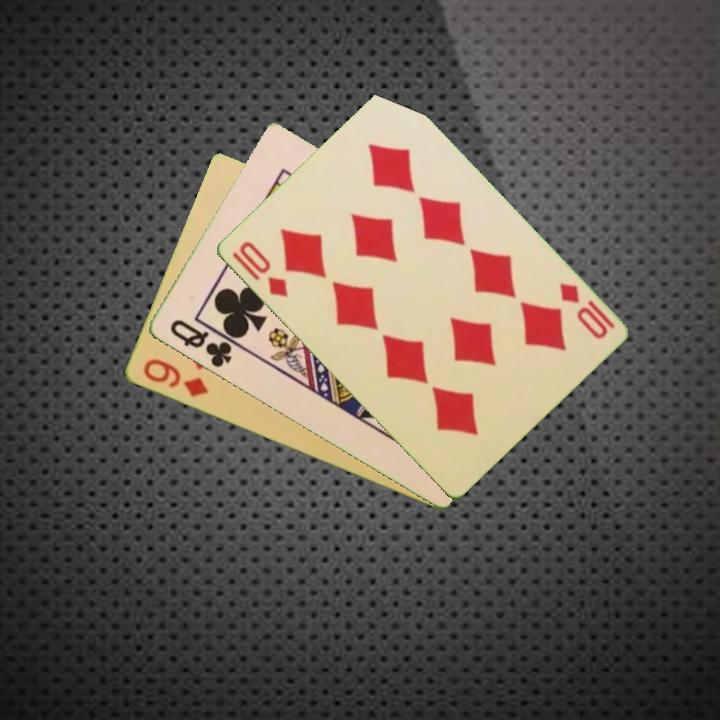10d: (555, 279, 618, 342), (235, 237, 290, 301)
9d: (139, 355, 212, 400)
Qc: (165, 316, 235, 371)
